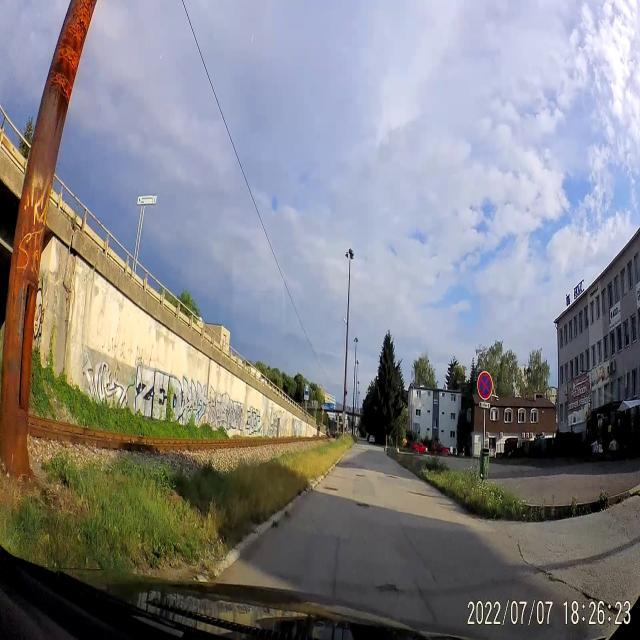Pothole: (372, 572, 402, 604), (354, 495, 372, 515), (323, 484, 341, 494), (354, 471, 368, 481), (386, 472, 399, 482)
